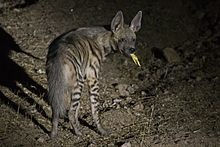hyena: (45, 7, 146, 135)
